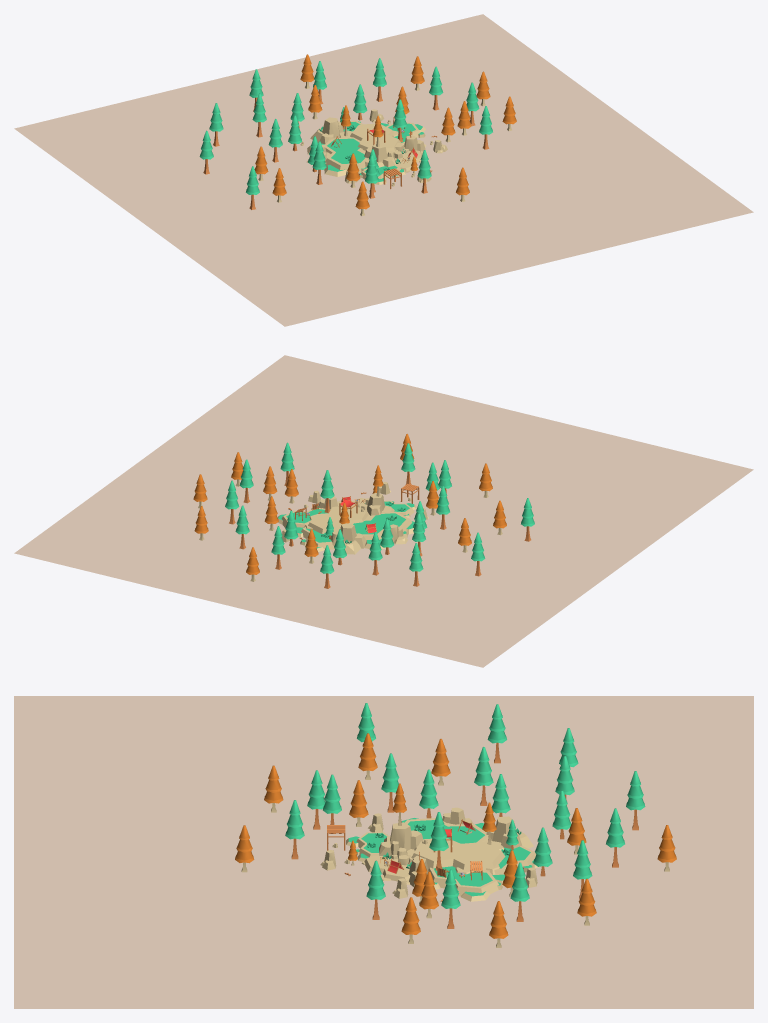
The picture shows the model from 3 angles, top to bottom: view 1: azimuth 30°, elevation 25°; view 2: azimuth 150°, elevation 25°; view 3: azimuth 270°, elevation 25°; orthographic projection. The views are drawn at different scales.
Parts seen in each view (by area): view 1: Plane, rockFlatGrass.001, rockFlat; view 2: Plane, rockFlatGrass.001, rockFlat, rockB.002; view 3: Plane, rockFlat, rockFlatGrass.002, rockFlatGrass.001, rockB, rockFlatGrass, rockFlatGrass.003, rockB.002, rockFlat.001, treeLarge.005, treeLarge.008, treeLarge.012 (+13 smaller).
Boxes of the visible parts, bbox=[...] form: Plane: bbox=[14, 14, 753, 326]; rockFlatGrass.001: bbox=[307, 137, 367, 176]; rockFlat: bbox=[339, 123, 401, 153]; Plane: bbox=[14, 355, 753, 667]; rockFlatGrass.001: bbox=[351, 511, 414, 549]; rockFlat: bbox=[304, 505, 371, 533]; rockB.002: bbox=[330, 523, 366, 554]; Plane: bbox=[14, 696, 753, 1008]; rockFlat: bbox=[408, 838, 505, 874]; rockFlatGrass.002: bbox=[428, 866, 502, 901]; rockFlatGrass.001: bbox=[401, 818, 491, 843]; rockB: bbox=[379, 822, 423, 856]; rockFlatGrass: bbox=[346, 832, 388, 861]; rockFlatGrass.003: bbox=[482, 845, 539, 885]; rockB.002: bbox=[486, 816, 533, 848]; rockFlat.001: bbox=[361, 855, 410, 881]; treeLarge.005: bbox=[285, 800, 304, 859]; treeLarge.008: bbox=[441, 869, 460, 928]; treeLarge.012: bbox=[626, 771, 645, 830].
Bounding box in the file's own units: 19.97 × 2.35 × 19.97.
